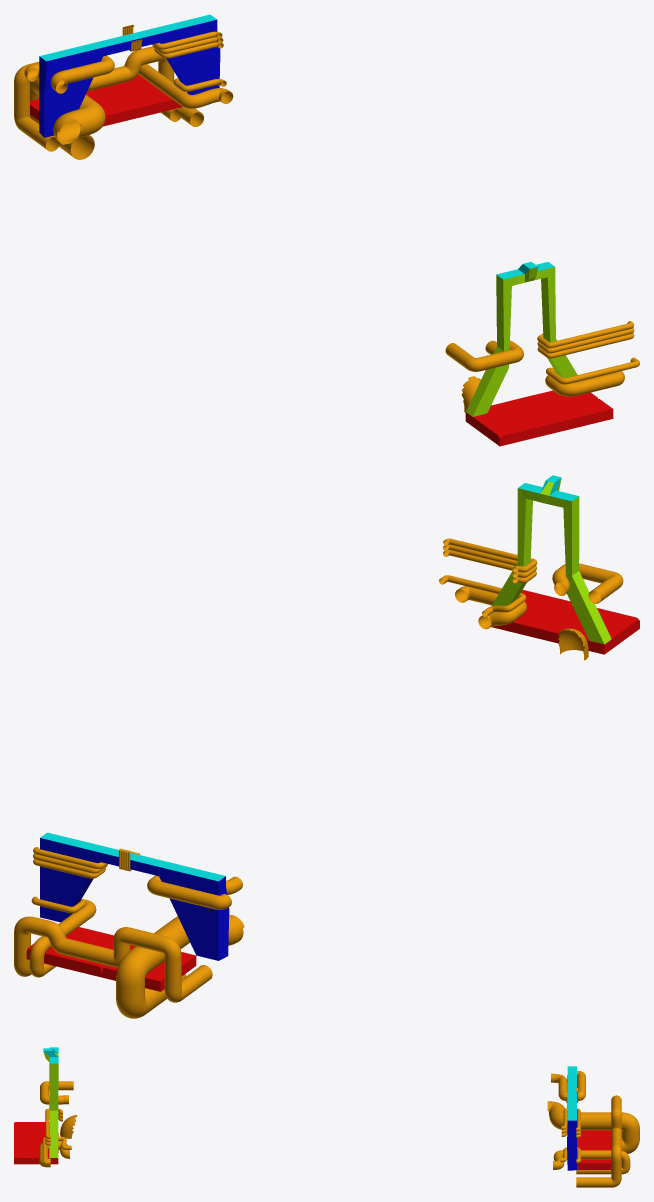
Rendered from Tutorial_Mesh_Decoy.fbx.
3 renders of one model, top to bottom at view 1: azimuth 30°, elevation 25°; view 2: azimuth 150°, elevation 25°; view 3: azimuth 270°, elevation 25°, orthographic. The views are drawn at different scales.
Parts seen in each view (by area): view 1: Tutorial_Pipe_1, Tutorial_Cliffs, Tutorial_StartEntrance, Tutorial_StationEntrance, Tutorial_Roof; view 2: Tutorial_Pipe_1, Tutorial_StartEntrance, Tutorial_Cliffs, Tutorial_StationEntrance, Tutorial_Roof; view 3: Tutorial_Pipe_1, Tutorial_Cliffs, Tutorial_StationEntrance, Tutorial_Roof, Tutorial_StartEntrance.
Part boxes in pixels (x1,y1,x2,y2): Tutorial_Pipe_1: [14, 24, 639, 412]; Tutorial_Cliffs: [30, 75, 613, 446]; Tutorial_StartEntrance: [39, 19, 220, 137]; Tutorial_StationEntrance: [466, 267, 577, 416]; Tutorial_Roof: [39, 14, 554, 279]; Tutorial_Pipe_1: [14, 538, 623, 1018]; Tutorial_StartEntrance: [40, 838, 229, 960]; Tutorial_Cliffs: [26, 590, 639, 991]; Tutorial_StationEntrance: [491, 478, 611, 644]; Tutorial_Roof: [40, 475, 578, 881]; Tutorial_Pipe_1: [39, 1071, 639, 1187]; Tutorial_Cliffs: [14, 1122, 611, 1169]; Tutorial_StationEntrance: [43, 1051, 58, 1157]; Tutorial_Roof: [43, 1047, 576, 1120]; Tutorial_StartEntrance: [567, 1075, 576, 1170].
Size of the model in its own units: 4803 by 4041 by 19457.
